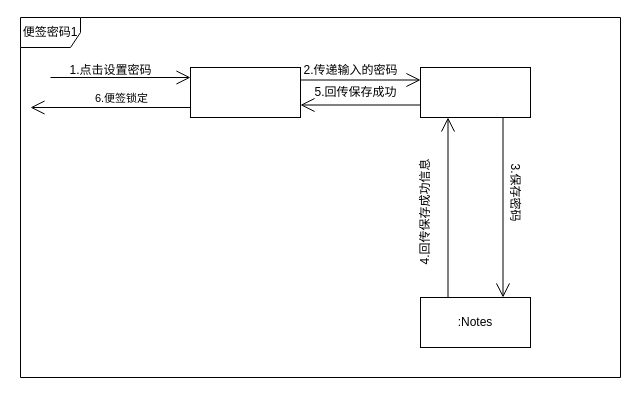
Image size: 638x395. Some labels were removed from this diagram. Each missing label, with the centre of its shape:
:NoteEditActivity: [245,92]
:WorkingNote: [475,92]
